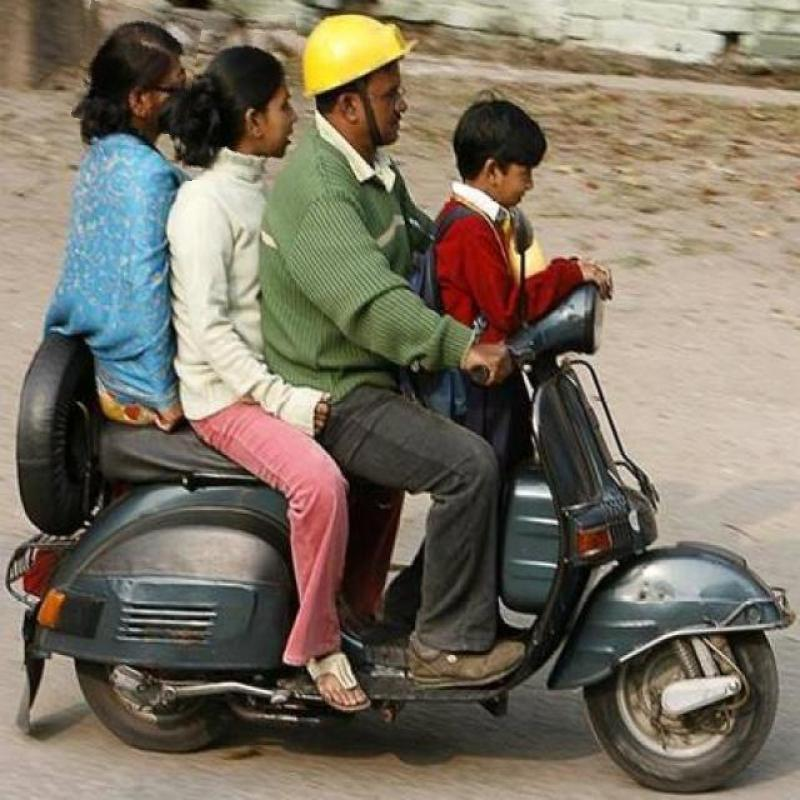nohelmet: (173, 15, 306, 179), (76, 4, 198, 131)
